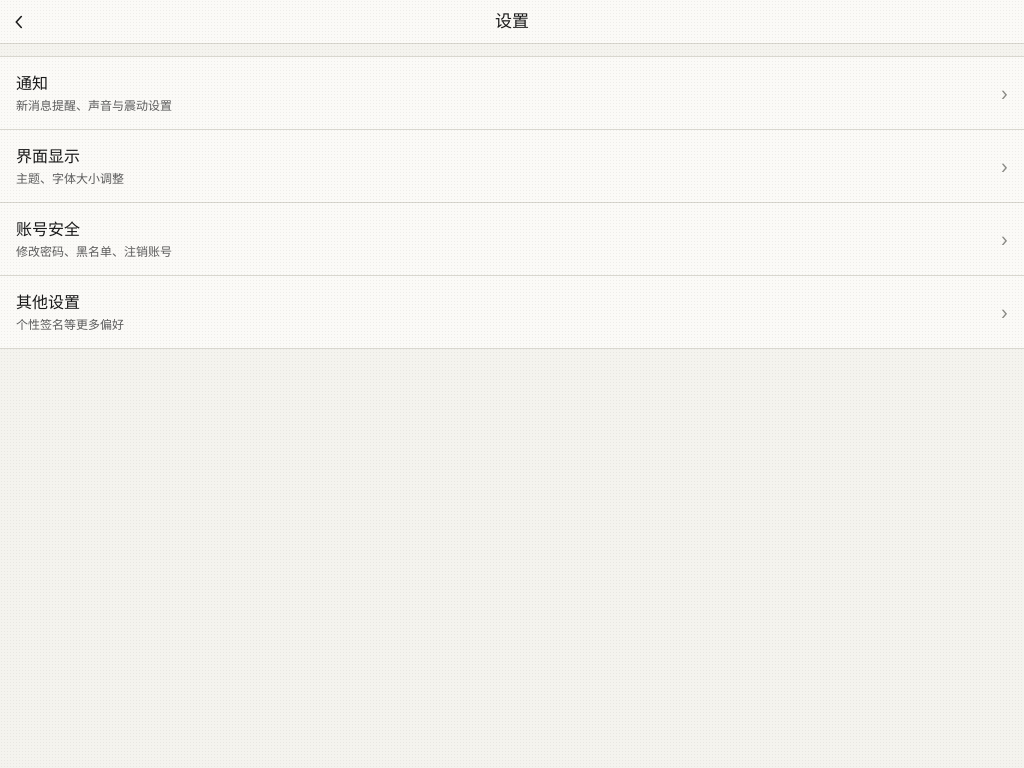
Settings 设置页 › 通知面板可切换并持久化偏好
Click the button "通知 新消息提醒、声音与震动设置 ›".
click(32, 83)  # box [0,57,1023,129]
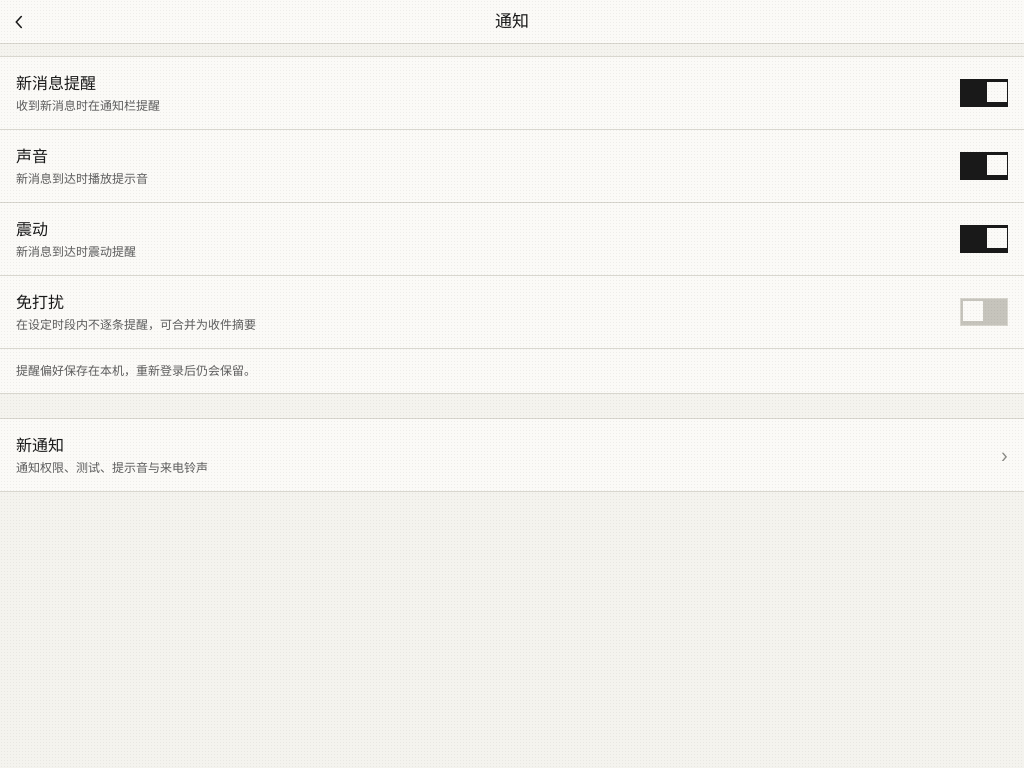
Expected: the element with test id "settings-notify" is shown, [0,56,1023,492]
Click the switch named "新消息提醒".
click(984, 93)  # box [960,79,1008,107]
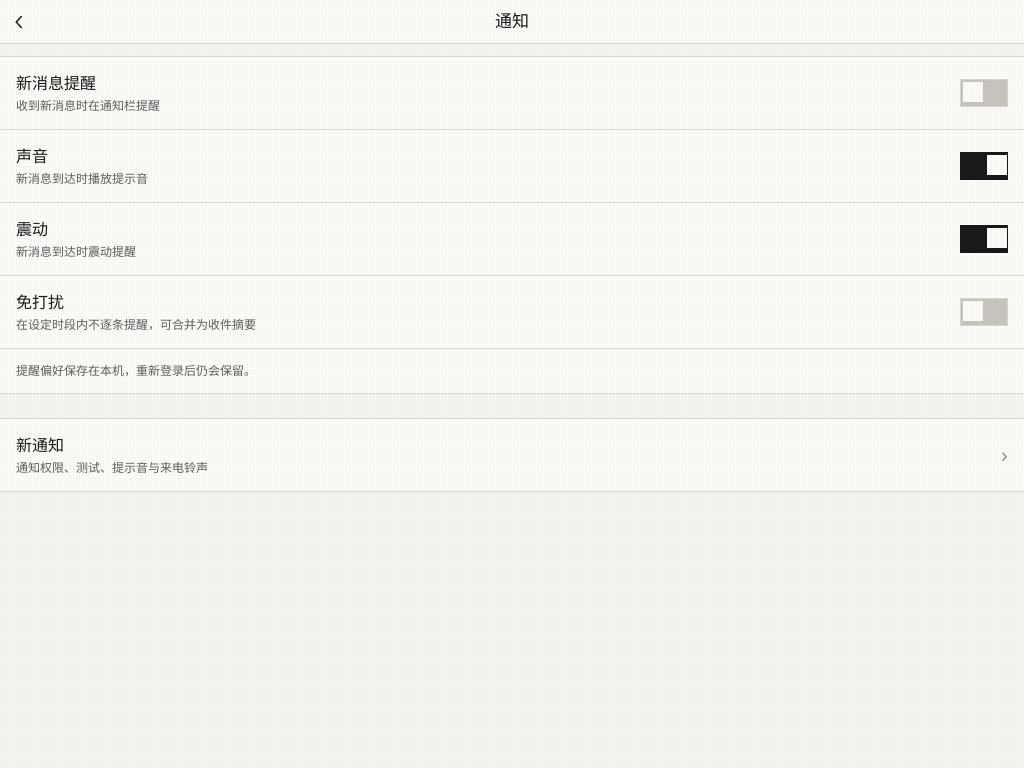
Expected: the switch named "新消息提醒" is not checked, [960,79,1008,107]
Click the button named "返回".
click(26, 22)  # box [8,4,44,40]
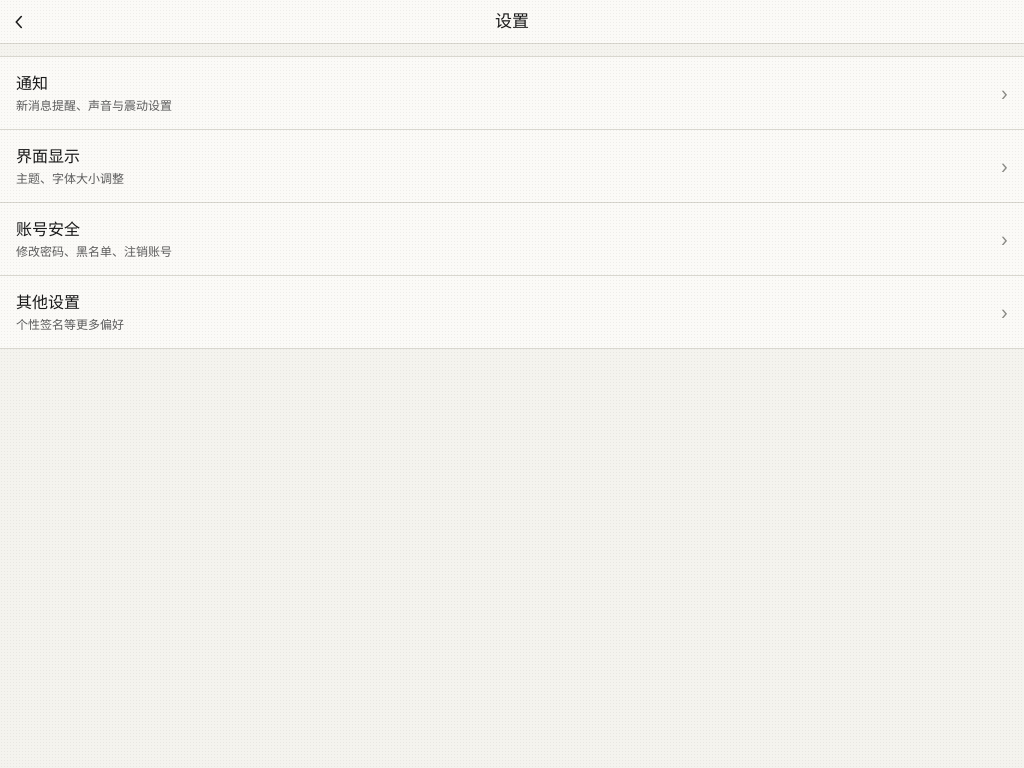
Expected: the list with test id "settings-list" is shown, [0,56,1023,349]
